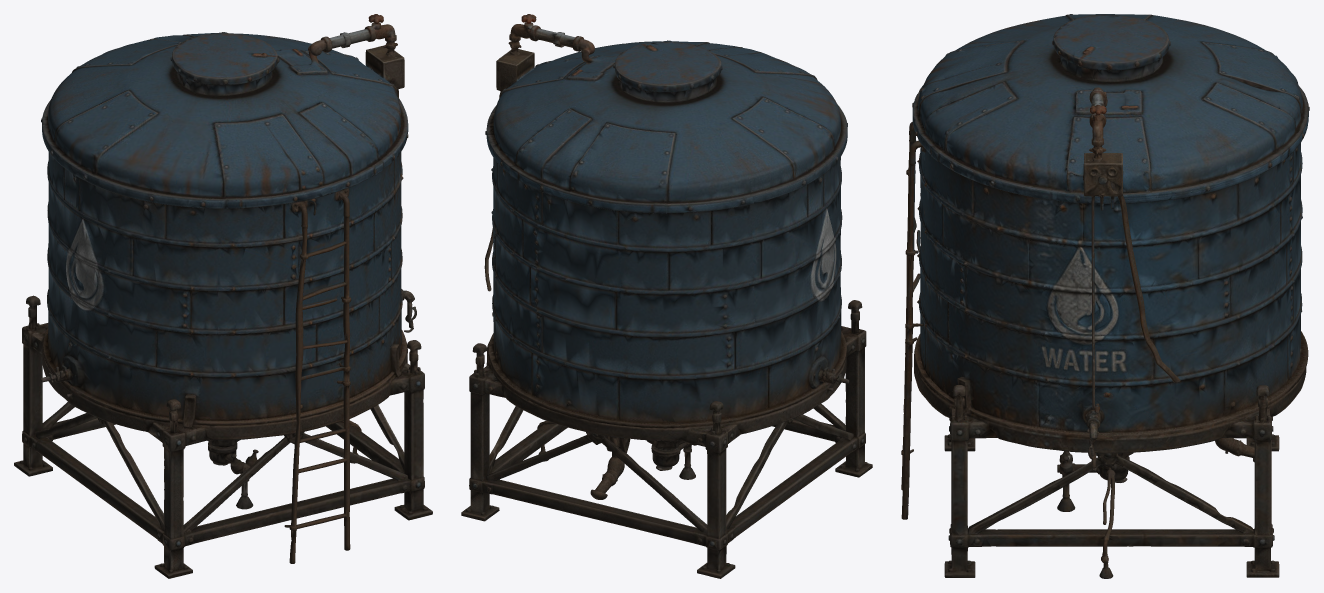
File: tank_water.glb
3 views of the same model, side by side, from view 1: azimuth 30°, elevation 25°; view 2: azimuth 150°, elevation 25°; view 3: azimuth 270°, elevation 25° (orthographic). The views are drawn at different scales.
Visible parts, largest first — view 1: tank_water; view 2: tank_water; view 3: tank_water.
Part boxes in pixels (bbox=[...]): tank_water: bbox=[14, 14, 432, 578]; tank_water: bbox=[461, 14, 872, 578]; tank_water: bbox=[901, 14, 1309, 578].
Size of the model in its own units: 164 by 190 by 147.
1 material, 1 textured.
